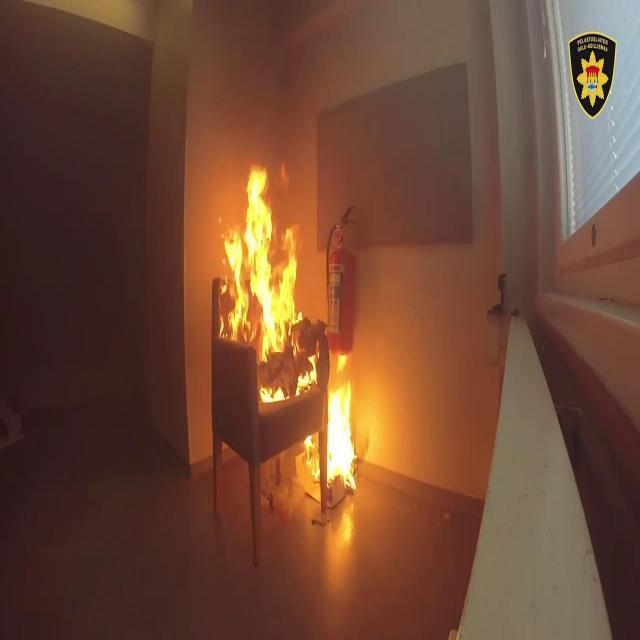Fire: (222, 148, 326, 388), (299, 408, 393, 481)
